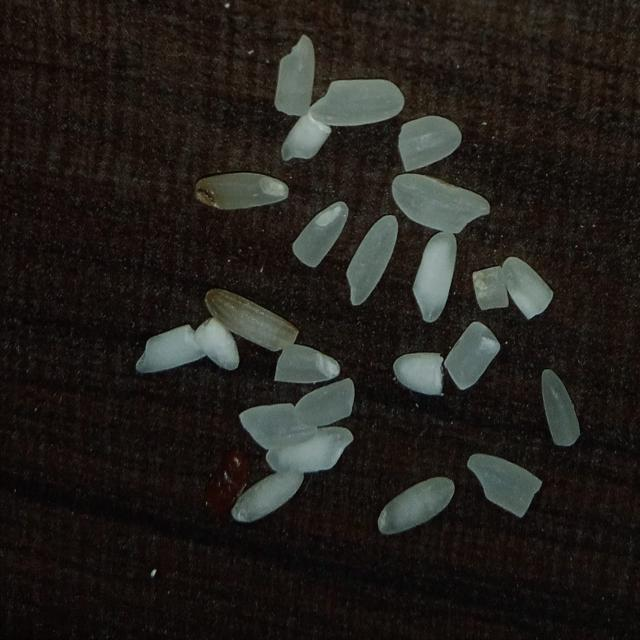Broken: (205, 286, 299, 353), (467, 452, 542, 518), (413, 231, 458, 324), (442, 321, 501, 390), (291, 200, 349, 269), (194, 171, 290, 210), (238, 402, 316, 450), (135, 324, 207, 374), (399, 116, 462, 172), (274, 34, 316, 116), (503, 256, 554, 320), (542, 368, 581, 446), (294, 378, 356, 427), (274, 344, 340, 384), (195, 316, 240, 371), (281, 111, 331, 160), (393, 352, 444, 396), (472, 264, 509, 311)
Full: (392, 173, 490, 233), (346, 215, 398, 306), (378, 476, 455, 535), (310, 78, 404, 126), (266, 425, 354, 472), (231, 469, 304, 524)
